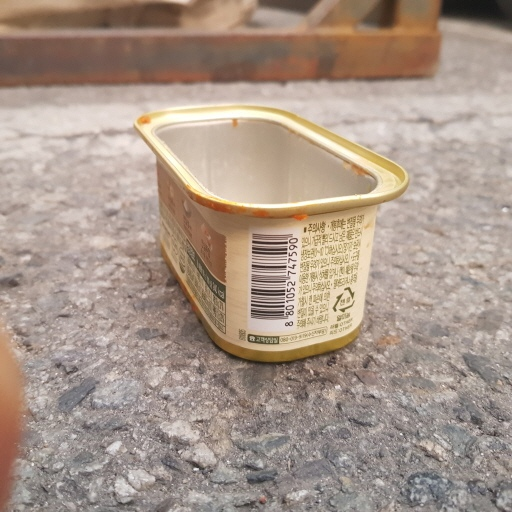Metal_2: (135, 101, 408, 363)
